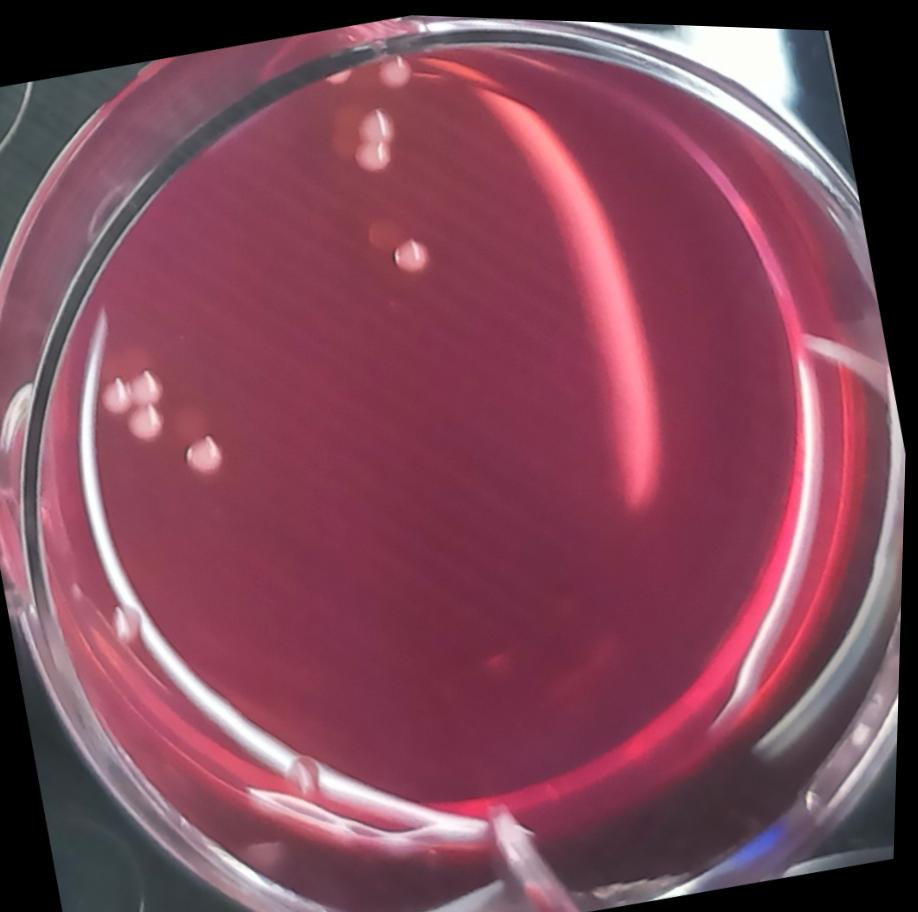bcereus: (330, 95, 409, 179), (169, 409, 243, 488), (372, 217, 439, 285), (122, 396, 171, 447), (372, 46, 421, 96), (125, 362, 170, 409), (99, 369, 140, 413)
